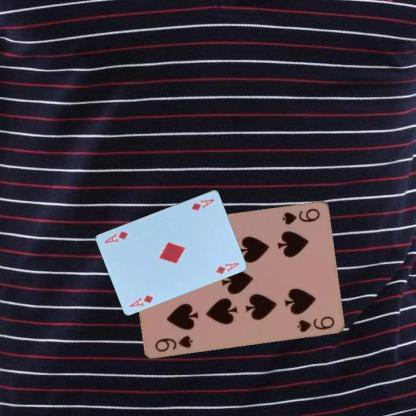9s: (280, 205, 322, 226), (152, 332, 194, 353)
Ad: (188, 196, 216, 212), (127, 292, 154, 308)
